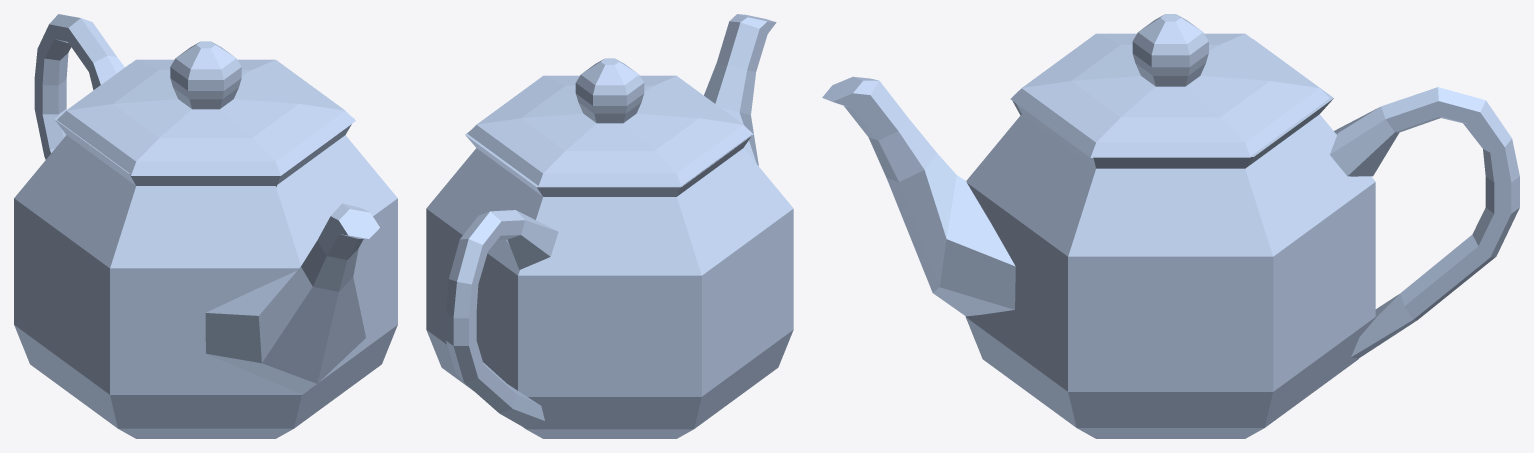
Rendered from teapot.fbx.
3 renders of one model, left to right at view 1: azimuth 30°, elevation 25°; view 2: azimuth 150°, elevation 25°; view 3: azimuth 270°, elevation 25°, orthographic. The views are drawn at different scales.
Visible parts, largest first — view 1: Cylinder, Cylinder.002, Cylinder.003, Cylinder.001; view 2: Cylinder, Cylinder.002, Cylinder.001, Cylinder.003; view 3: Cylinder, Cylinder.002, Cylinder.003, Cylinder.001.
Part boxes in pixels (x1,y1,x2,y2): Cylinder: (14, 64, 397, 438); Cylinder.002: (56, 41, 355, 175); Cylinder.003: (205, 203, 379, 393); Cylinder.001: (34, 14, 124, 159); Cylinder: (426, 132, 793, 438); Cylinder.002: (467, 58, 753, 186); Cylinder.001: (446, 210, 558, 428); Cylinder.003: (704, 14, 776, 165); Cylinder: (965, 39, 1375, 438); Cylinder.002: (1010, 14, 1329, 157); Cylinder.003: (822, 76, 1015, 316); Cylinder.001: (1330, 87, 1519, 358).
Size of the model in its own units: 238 by 271 by 468.
